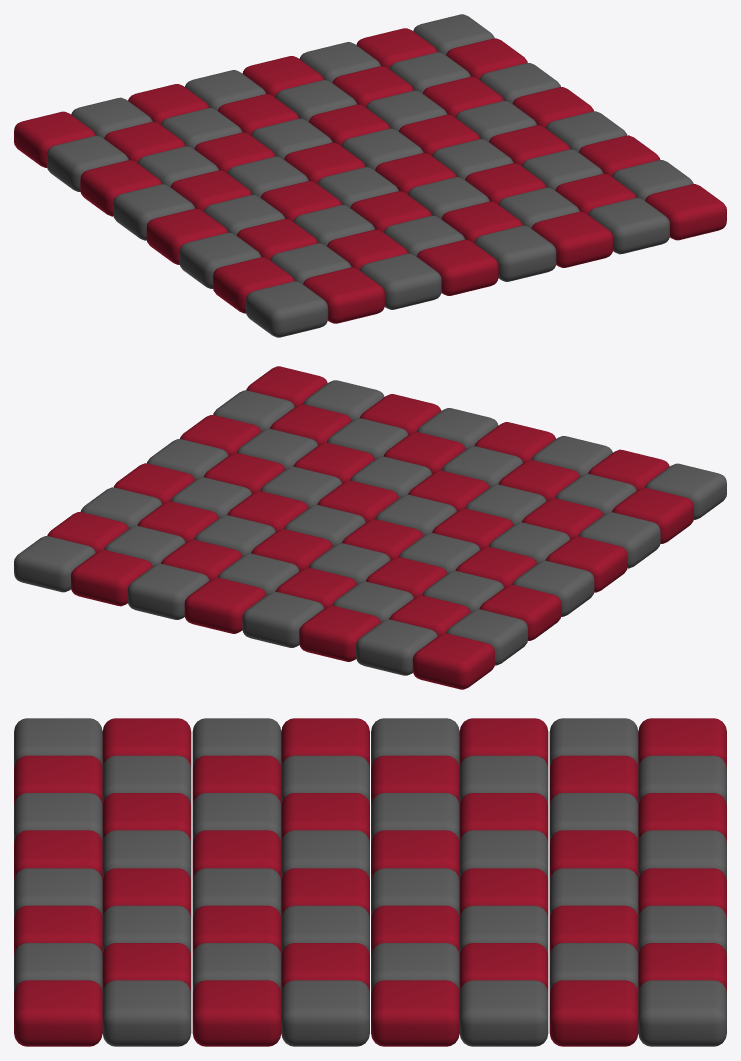
Rendered from tileFloor.fbx.
The picture shows the model from 3 angles, top to bottom: view 1: azimuth 30°, elevation 25°; view 2: azimuth 150°, elevation 25°; view 3: azimuth 270°, elevation 25°; orthographic projection. The views are drawn at different scales.
Parts seen in each view (by area): view 1: Roundcube.001, Roundcube.002, Roundcube.006, Roundcube, Roundcube.007, Roundcube.005, Roundcube.003, Roundcube.004; view 2: Roundcube.007, Roundcube.005, Roundcube.003, Roundcube.004, Roundcube.001, Roundcube.002, Roundcube.006, Roundcube; view 3: Roundcube, Roundcube.004, Roundcube.006, Roundcube.003, Roundcube.001, Roundcube.007, Roundcube.002, Roundcube.005.
Part boxes in pixels (bbox=[...]): Roundcube.001: bbox=[146, 181, 498, 323]; Roundcube.002: bbox=[179, 167, 465, 337]; Roundcube.006: bbox=[408, 111, 693, 281]; Roundcube: bbox=[375, 125, 726, 267]; Roundcube.007: bbox=[47, 70, 332, 240]; Roundcube.005: bbox=[14, 84, 365, 216]; Roundcube.003: bbox=[242, 28, 593, 155]; Roundcube.004: bbox=[275, 14, 560, 170]; Roundcube.007: bbox=[242, 533, 594, 675]; Roundcube.005: bbox=[275, 519, 561, 689]; Roundcube.003: bbox=[47, 463, 332, 633]; Roundcube.004: bbox=[14, 477, 365, 619]; Roundcube.001: bbox=[408, 422, 693, 592]; Roundcube.002: bbox=[375, 436, 726, 568]; Roundcube.006: bbox=[147, 380, 498, 507]; Roundcube: bbox=[180, 366, 465, 522]; Roundcube: bbox=[14, 868, 369, 1046]; Roundcube.004: bbox=[371, 868, 726, 1046]; Roundcube.006: bbox=[14, 868, 369, 1046]; Roundcube.003: bbox=[371, 868, 726, 1046]; Roundcube.001: bbox=[14, 718, 369, 880]; Roundcube.007: bbox=[371, 718, 726, 880]; Roundcube.002: bbox=[14, 718, 369, 880]; Roundcube.005: bbox=[371, 718, 726, 880].
Bounding box in the file's own units: 1047 × 62 × 1053.
